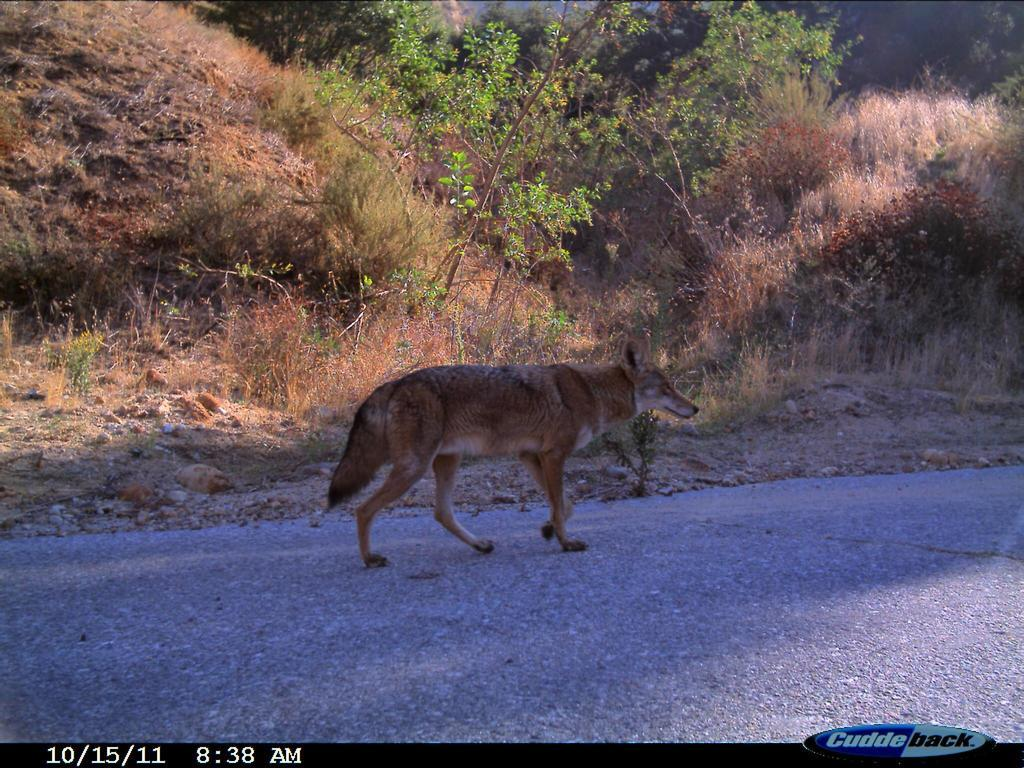coyote: (319, 338, 707, 578)
